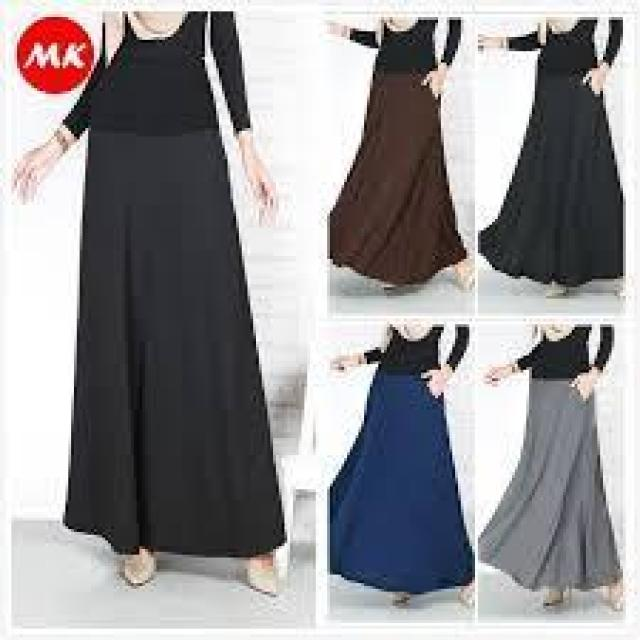dress: (60, 8, 276, 552), (490, 16, 636, 303), (320, 16, 476, 283), (328, 327, 474, 592), (476, 324, 616, 589)
